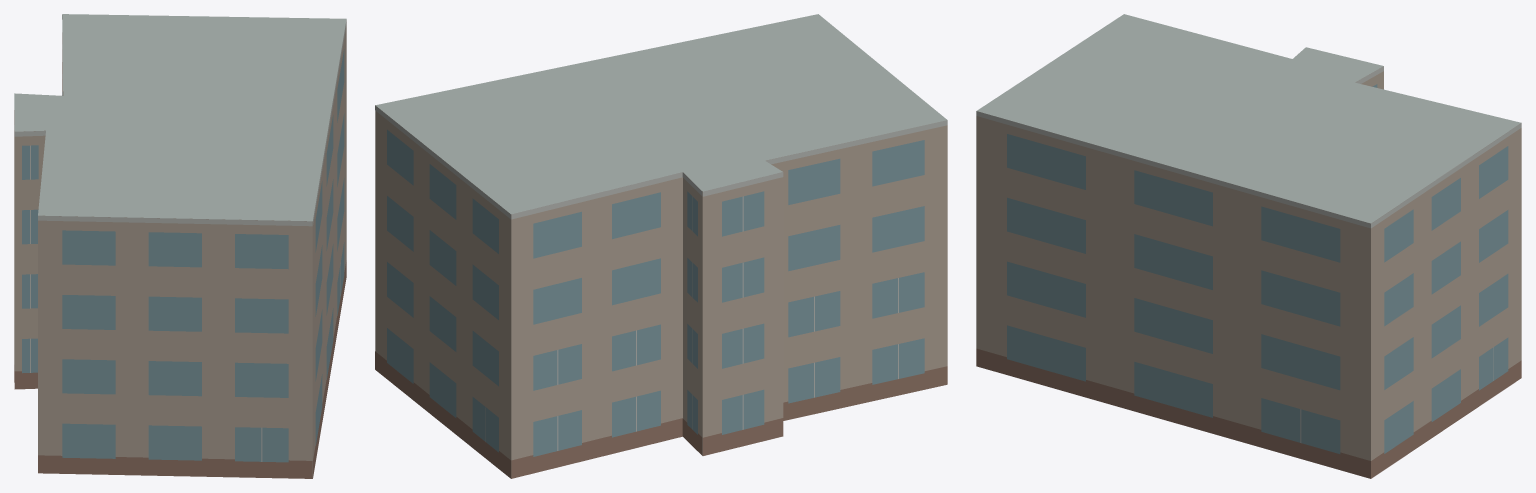
The model's file is survey-upis-33042629.glb.
The picture shows the model from 3 angles, left to right: view 1: azimuth 30°, elevation 25°; view 2: azimuth 150°, elevation 25°; view 3: azimuth 270°, elevation 25°; orthographic projection. The views are drawn at different scales.
Visible parts, largest first — view 1: survey-upis-33042629.tmp; view 2: survey-upis-33042629.tmp; view 3: survey-upis-33042629.tmp.
Boxes of the visible parts, x1,y1,x2,y2 form: survey-upis-33042629.tmp: (14,14,346,478); survey-upis-33042629.tmp: (375,14,947,478); survey-upis-33042629.tmp: (976,14,1521,478).
Size of the model in its own units: 22.18 by 12.6 by 24.38.
